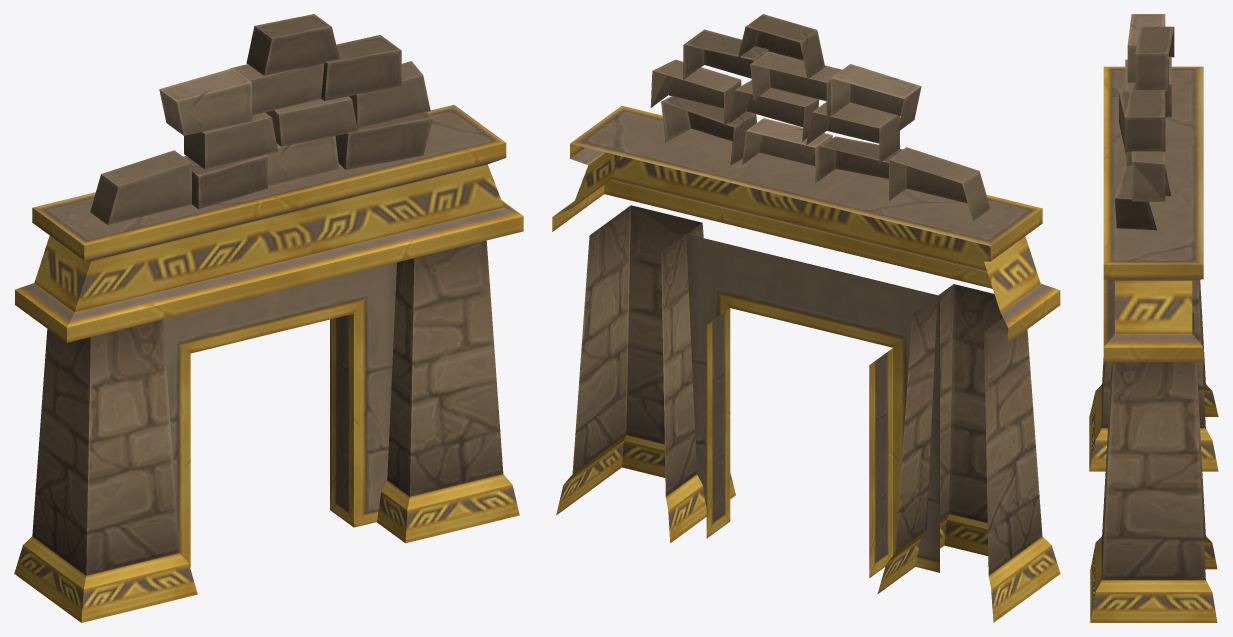
The model's file is desert_dungeon_prop_4.FBX.
The picture shows the model from 3 angles, left to right: view 1: azimuth 30°, elevation 25°; view 2: azimuth 150°, elevation 25°; view 3: azimuth 270°, elevation 25°; orthographic projection. The views are drawn at different scales.
Visible parts, largest first — view 1: Object001; view 2: Object001; view 3: Object001.
Part boxes in pixels (box(x1,y1,x2,y2)): Object001: box(14, 14, 523, 622); Object001: box(552, 14, 1060, 622); Object001: box(1089, 14, 1218, 622).
Bounding box in the file's own units: 133 × 33.81 × 142.
